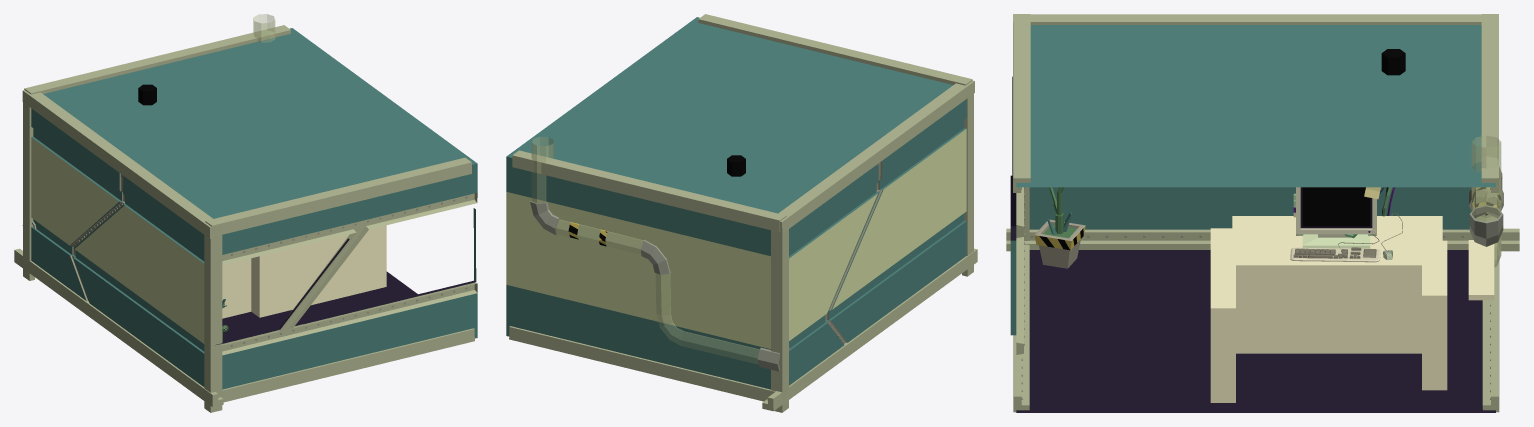
Rendered from room1.glb.
The picture shows the model from 3 angles, left to right: view 1: azimuth 30°, elevation 25°; view 2: azimuth 150°, elevation 25°; view 3: azimuth 270°, elevation 25°; orthographic projection. The views are drawn at different scales.
Visible parts, largest first — view 1: Cube, Cube.010, Cube.008, Cube.003, Cube.006, Cube.001, Cube.004, Cube.012, Cube.005, Cube.002, Cube.013; view 2: Cube, Cube.013, Cube.012, Cube.003, Cube.007, Cube.004, Cube.008, Cube.002, Cube.001; view 3: Cube, Cube.005, Cube.003, Cylinder.002, Cube.010, Cube.004, Cube.011, Cube.008, Cube.012, Cube.013, Cube.007, Cube.009 (+4 smaller).
Part boxes in pixels (x1,y1,x2,y2): Cube: (31,28,477,389); Cube.010: (251,225,386,317); Cube.008: (205,157,471,236); Cube.003: (22,90,221,238); Cube.006: (222,328,474,402); Cube.001: (204,235,222,412); Cube.004: (14,248,223,406); Cube.012: (24,25,290,94); Cube.005: (222,258,251,318); Cube.002: (23,91,34,280); Cube.013: (22,14,275,229); Cube: (506,17,966,389); Cube.013: (530,137,789,371); Cube.012: (512,150,786,232); Cube.003: (776,80,974,233); Cube.007: (509,326,775,401); Cube.004: (762,248,977,411); Cube.008: (698,14,972,85); Cube.002: (771,220,788,412); Cube.001: (962,94,973,276); Cube: (1010,25,1495,412); Cube.005: (1232,216,1442,353); Cube.003: (1013,14,1481,27); Cylinder.002: (1293,187,1376,248); Cube.010: (1210,228,1235,402); Cube.004: (1006,228,1519,251); Cube.011: (1422,240,1447,390); Cube.008: (1013,14,1030,192); Cube.012: (1481,14,1498,192); Cube.013: (1469,136,1503,267); Cube.007: (1482,245,1499,412); Cube.009: (1034,187,1085,268).
Bounding box in the file's own units: 6.19 × 4.62 × 7.91.
